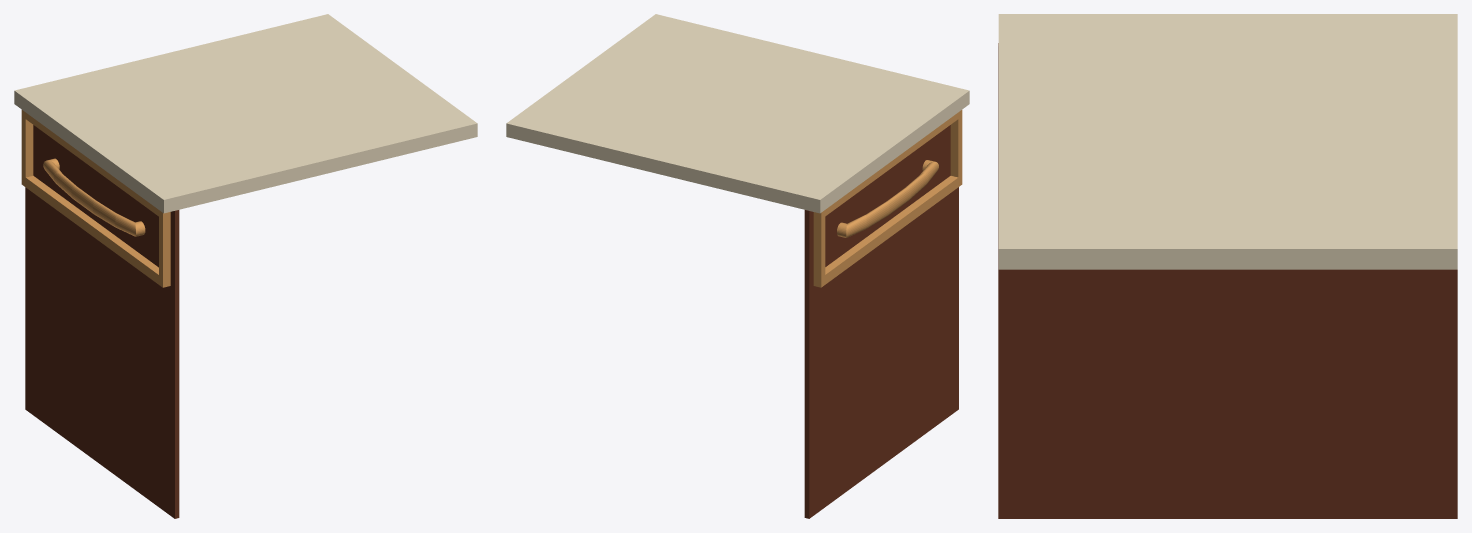
Rendered from working_spacce.fbx.
3 views of the same model, side by side, from view 1: azimuth 30°, elevation 25°; view 2: azimuth 150°, elevation 25°; view 3: azimuth 270°, elevation 25° (orthographic). The views are drawn at different scales.
Parts seen in each view (by area): view 1: inox_table.002, wood_pannel.002, décoration, poignée; view 2: inox_table.002, wood_pannel.002, décoration, poignée; view 3: inox_table.002, wood_pannel.002.
Part boxes in pixels (box(x1,y1,x2,y2)): inox_table.002: box(14, 14, 477, 213); wood_pannel.002: box(25, 125, 179, 518); décoration: box(21, 110, 170, 287); poignée: box(43, 158, 145, 236); inox_table.002: box(506, 14, 969, 213); wood_pannel.002: box(804, 125, 958, 518); décoration: box(813, 110, 962, 287); poignée: box(837, 160, 938, 237); inox_table.002: box(998, 14, 1457, 269); wood_pannel.002: box(998, 43, 1457, 518).
Bounding box in the file's own units: 13893 × 13347 × 11259.
